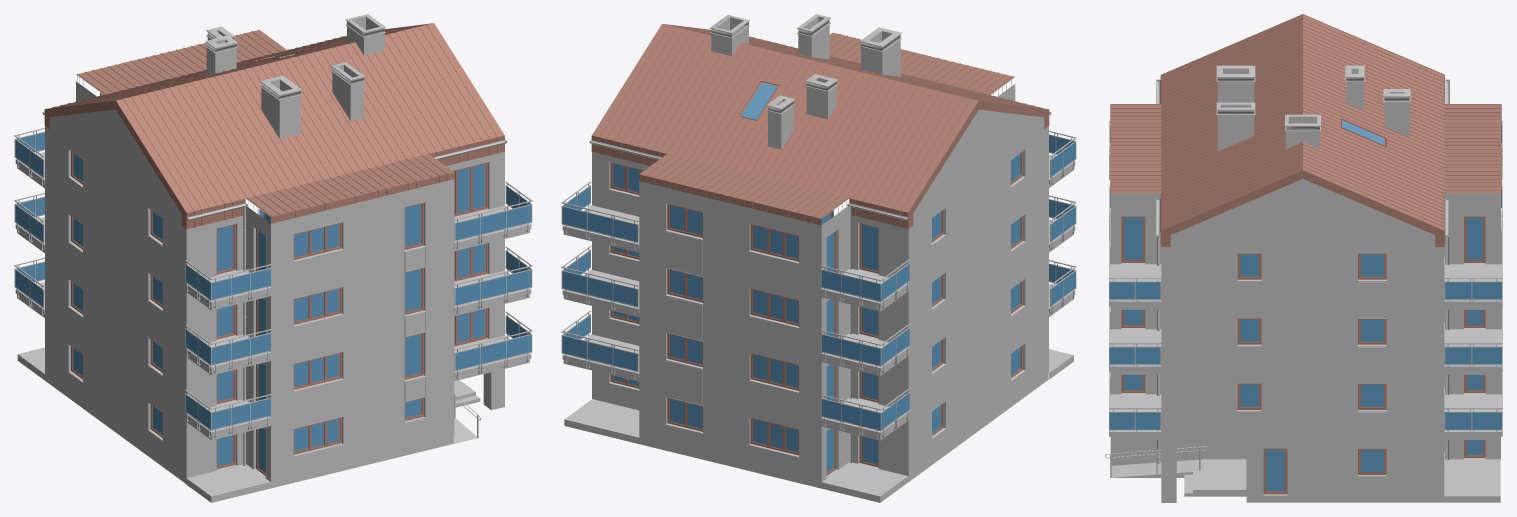
File: Building.gltf
The picture shows the model from 3 angles, left to right: view 1: azimuth 30°, elevation 25°; view 2: azimuth 150°, elevation 25°; view 3: azimuth 270°, elevation 25°; orthographic projection.
Visible parts, largest first — view 1: building_walls-plaster_white, roof, foundation_wall, window_005-window_glass, barrels-window_glass, window_005-wood_brown, barrels-metal_grey, chimney, metal_cover, balcony-plate_white, balcony-plaster_white, terrace-curb (+6 smaller); view 2: building_walls-plaster_white, roof, foundation_wall, window_005-window_glass, barrels-window_glass, chimney, window_005-wood_brown, barrels-metal_grey, boards_001-wood_balls_brown, terrace-curb, balcony-plate_white, metal_cover (+6 smaller); view 3: building_walls-plaster_white, roof, foundation_wall, window_005-window_glass, balcony-plate_white, chimney, barrels-window_glass, window_005-wood_brown, eneter_floor, barrels-metal_grey, boards_001-wood_balls_brown, terrace-curb (+8 smaller).
Boxes of the visible parts, <box> form: building_walls-plaster_white: <box>45,81,504,417</box>; roof: <box>44,23,504,229</box>; foundation_wall: <box>45,310,454,488</box>; window_005-window_glass: <box>73,95,484,472</box>; barrels-window_glass: <box>15,132,531,429</box>; window_005-wood_brown: <box>71,92,487,475</box>; barrels-metal_grey: <box>14,128,532,438</box>; chimney: <box>205,14,385,138</box>; metal_cover: <box>15,152,531,436</box>; balcony-plate_white: <box>18,152,529,431</box>; balcony-plaster_white: <box>17,165,529,440</box>; terrace-curb: <box>18,347,269,496</box>; building_walls-plaster_white: <box>592,84,1048,417</box>; roof: <box>591,23,1049,228</box>; foundation_wall: <box>592,309,1048,488</box>; window_005-window_glass: <box>613,153,1020,472</box>; barrels-window_glass: <box>562,135,1075,430</box>; chimney: <box>710,14,901,149</box>; window_005-wood_brown: <box>610,95,1022,475</box>; barrels-metal_grey: <box>561,130,1076,438</box>; boards_001-wood_balls_brown: <box>666,233,701,405</box>; terrace-curb: <box>565,349,1073,496</box>; balcony-plate_white: <box>564,155,1072,432</box>; metal_cover: <box>562,155,1075,436</box>; building_walls-plaster_white: <box>1110,179,1500,431</box>; roof: <box>1110,14,1501,246</box>; foundation_wall: <box>1110,431,1500,502</box>; window_005-window_glass: <box>1124,217,1482,491</box>; balcony-plate_white: <box>1110,263,1500,431</box>; chimney: <box>1216,65,1410,151</box>; barrels-window_glass: <box>1109,126,1501,429</box>; window_005-wood_brown: <box>1121,216,1485,494</box>; eneter_floor: <box>1111,459,1246,496</box>; barrels-metal_grey: <box>1109,121,1502,438</box>; boards_001-wood_balls_brown: <box>1359,283,1385,448</box>; terrace-curb: <box>1444,458,1500,496</box>.
Size of the model in its own units: 15.55 by 16.11 by 16.63.
